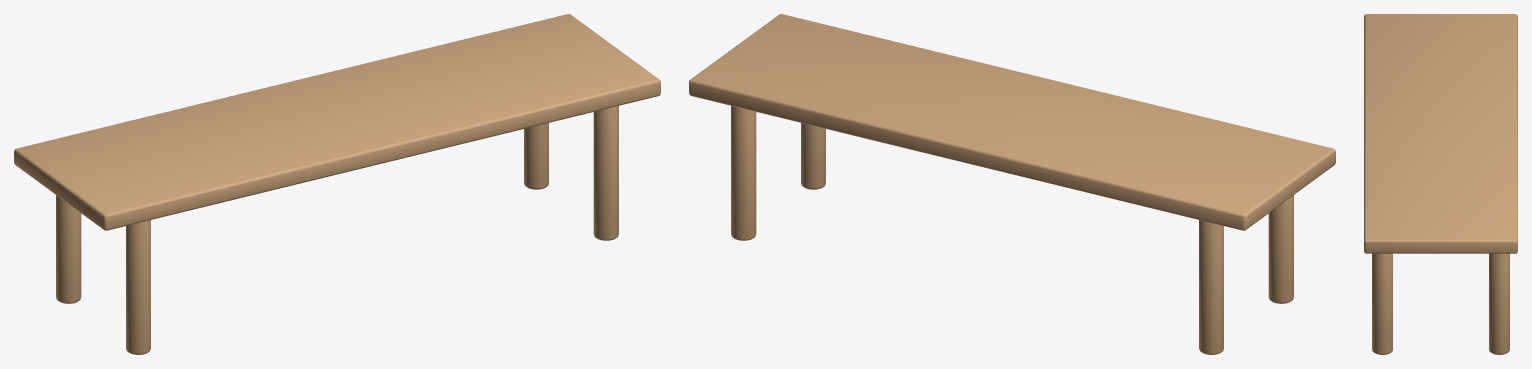
File: desk-double.glb
3 renders of one model, left to right at view 1: azimuth 30°, elevation 25°; view 2: azimuth 150°, elevation 25°; view 3: azimuth 270°, elevation 25°, orthographic. The views are drawn at different scales.
Visible parts, largest first — view 1: top.001, leg-3.001, leg-1.001, leg-2.001, leg-4.001; view 2: top.001, leg-4.001, leg-2.001, leg-1.001, leg-3.001; view 3: top.001, leg-3.001, leg-4.001.
Part boxes in pixels (x1,y1,x2,y2): top.001: [14, 14, 660, 230]; leg-3.001: [593, 106, 618, 240]; leg-1.001: [126, 220, 150, 354]; leg-2.001: [56, 195, 81, 303]; leg-4.001: [524, 123, 548, 189]; top.001: [689, 14, 1335, 230]; leg-4.001: [731, 106, 756, 240]; leg-2.001: [1199, 220, 1223, 354]; leg-1.001: [1268, 195, 1293, 303]; leg-3.001: [801, 123, 825, 189]; top.001: [1364, 14, 1517, 253]; leg-3.001: [1372, 253, 1392, 354]; leg-4.001: [1489, 253, 1509, 354].
Size of the model in its own units: 2.8 by 0.7392 by 0.8.
